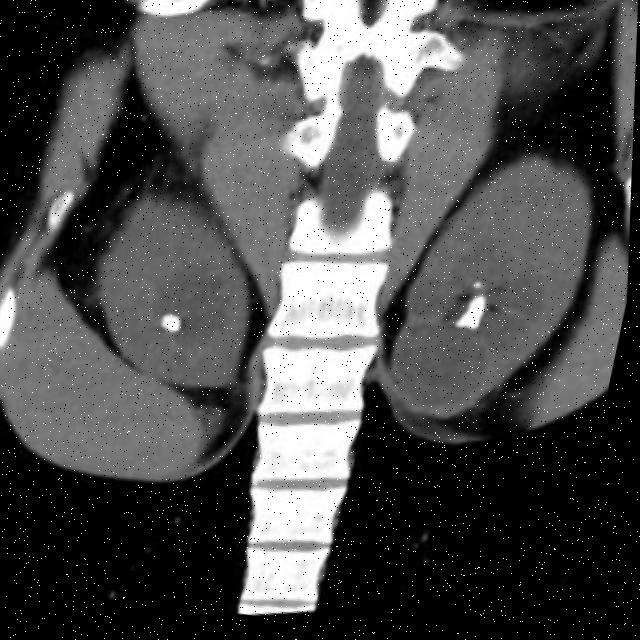Tas_Var: (452, 295, 499, 350), (155, 306, 194, 345), (470, 286, 490, 302)
